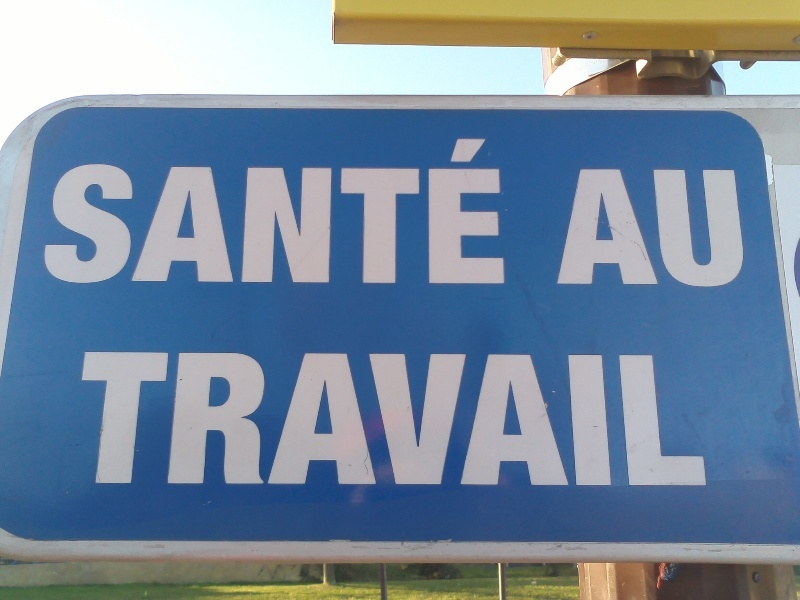text: (65, 136, 80, 287), (81, 136, 96, 287), (97, 136, 112, 287), (113, 136, 128, 287), (129, 136, 144, 287), (145, 136, 160, 287), (161, 136, 176, 287), (177, 136, 192, 287), (193, 136, 208, 287), (209, 136, 224, 287), (225, 136, 240, 287), (241, 136, 256, 287), (257, 136, 272, 287), (273, 136, 288, 287), (289, 136, 304, 287), (305, 136, 320, 287), (321, 136, 336, 287), (337, 136, 352, 287), (353, 136, 368, 287), (369, 136, 384, 287), (385, 136, 400, 287), (401, 136, 416, 287), (417, 136, 432, 287), (433, 136, 448, 287), (449, 136, 464, 287), (465, 136, 480, 287), (481, 136, 496, 287), (81, 349, 96, 486), (97, 349, 112, 486), (113, 349, 128, 486), (129, 349, 144, 486), (145, 349, 160, 486), (161, 349, 176, 486), (177, 349, 192, 486), (193, 349, 208, 486), (209, 349, 224, 486), (225, 349, 240, 486), (241, 349, 256, 486), (257, 349, 272, 486), (273, 349, 288, 486), (289, 349, 304, 486), (305, 349, 320, 486), (321, 349, 336, 486), (337, 349, 352, 486), (353, 349, 368, 486), (369, 349, 384, 486), (385, 349, 400, 486), (401, 349, 416, 486), (417, 349, 432, 486), (433, 349, 448, 486), (449, 349, 464, 486), (465, 349, 480, 486), (481, 349, 496, 486), (497, 349, 512, 486), (513, 349, 528, 486), (529, 349, 544, 486), (545, 349, 560, 486), (561, 349, 576, 486), (577, 349, 592, 486), (593, 349, 608, 486), (609, 349, 624, 486), (625, 349, 640, 486), (641, 349, 656, 486), (657, 349, 672, 486), (673, 349, 688, 486), (689, 349, 704, 486), (593, 168, 608, 289), (609, 168, 624, 289), (625, 168, 640, 289), (641, 168, 656, 289), (657, 168, 672, 289), (673, 168, 688, 289), (689, 168, 704, 289), (705, 168, 720, 289), (721, 168, 736, 289), (705, 349, 718, 486), (578, 168, 592, 289), (497, 136, 508, 287), (737, 168, 748, 289), (58, 136, 64, 287)
